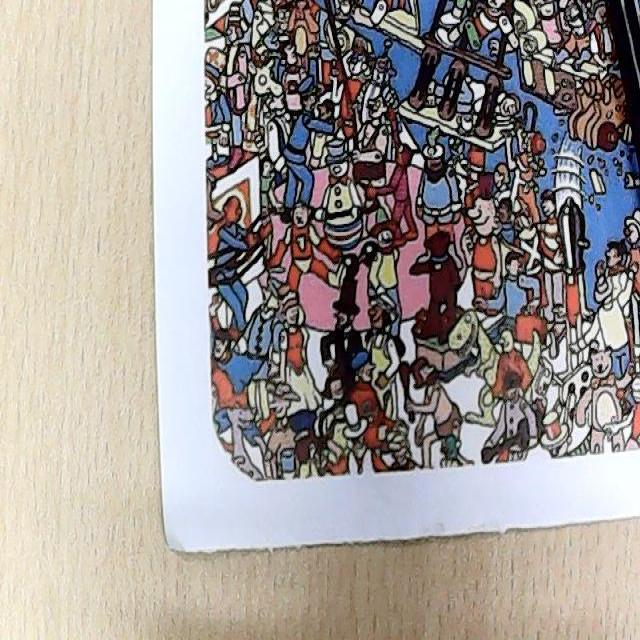waldo: (270, 0, 293, 36)
